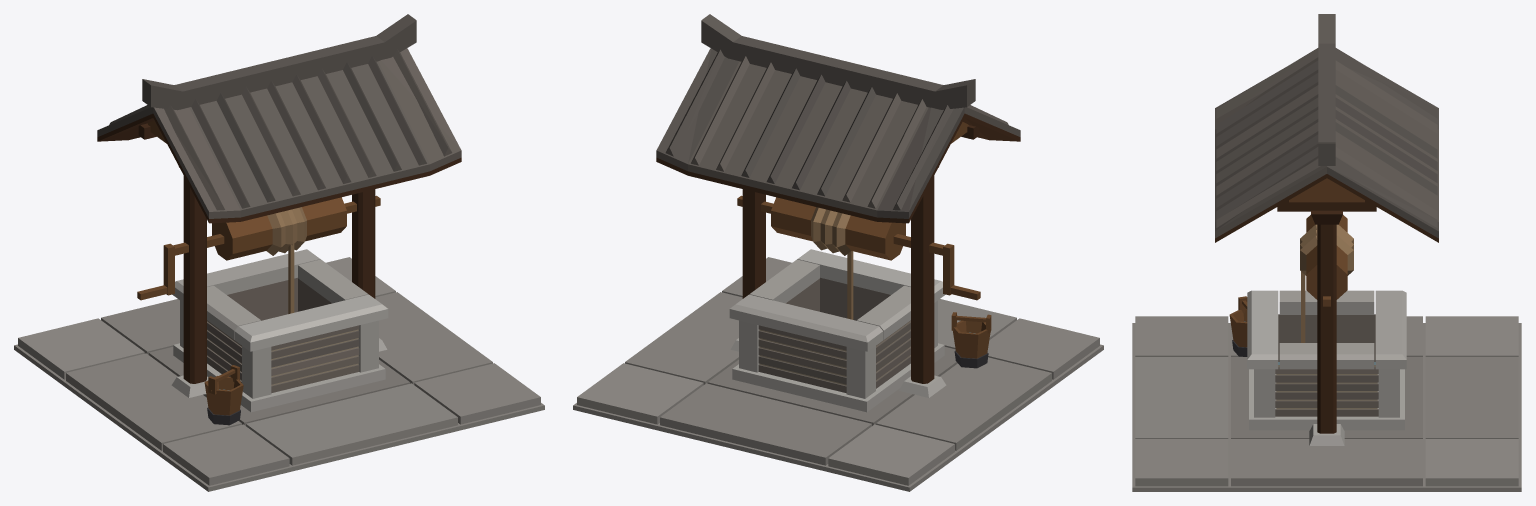
File: windlass-well-ebc2fb.glb
3 renders of one model, left to right at view 1: azimuth 30°, elevation 25°; view 2: azimuth 150°, elevation 25°; view 3: azimuth 270°, elevation 25°, orthographic.
Parts seen in each view (by area): view 1: well-body, windlass-mesh, bucket-mesh; view 2: well-body, windlass-mesh, bucket-mesh; view 3: well-body, windlass-mesh, bucket-mesh.
Boxes of the visible parts, x1,y1,x2,y2 form: well-body: (14, 14, 544, 491); windlass-mesh: (137, 195, 380, 300); bucket-mesh: (204, 365, 243, 425); well-body: (573, 14, 1103, 491); windlass-mesh: (737, 195, 980, 300); bucket-mesh: (951, 312, 991, 368); well-body: (1132, 14, 1521, 491); windlass-mesh: (1300, 215, 1353, 306); bucket-mesh: (1229, 296, 1247, 356).
Size of the model in its own units: 4 by 3.75 by 4.
